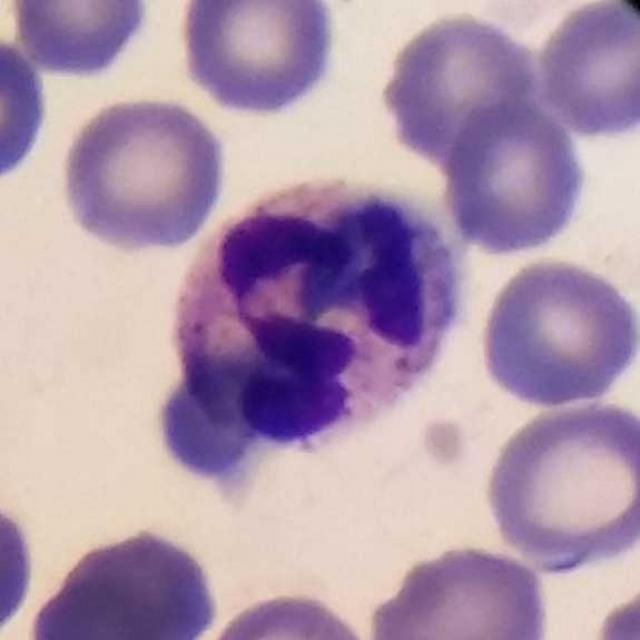Neutrophil: (152, 152, 486, 482)
Platelets: (404, 414, 478, 478)
RBC: (54, 91, 232, 256), (478, 395, 640, 575), (373, 7, 543, 168), (23, 515, 235, 640), (474, 254, 639, 411), (438, 94, 594, 260), (171, 0, 344, 120), (361, 537, 555, 640), (531, 1, 640, 144), (2, 0, 161, 83), (189, 585, 376, 640), (0, 26, 56, 199), (1, 484, 42, 640), (589, 573, 640, 639)
